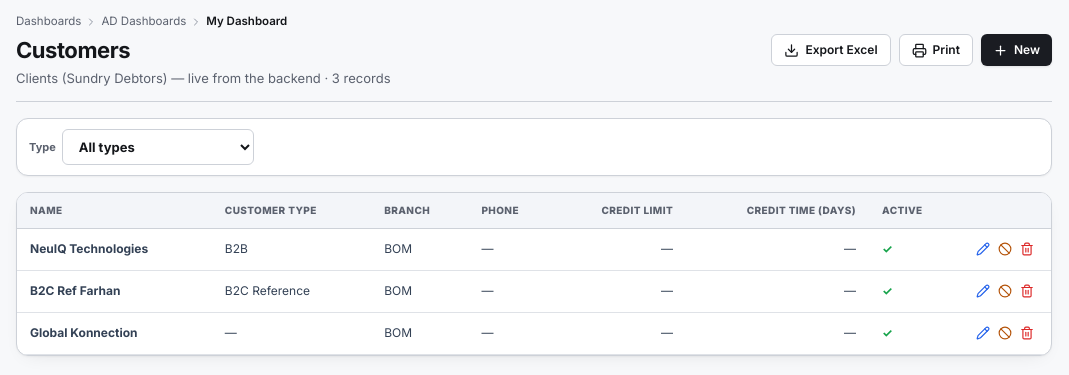
Customers master — Client Type filter › Unclassified isolates the historic rows carrying no type — they are not silently swallowed
Step 1. Select "Unclassified" in the dropdown → (158, 147), box [62,129,254,165]
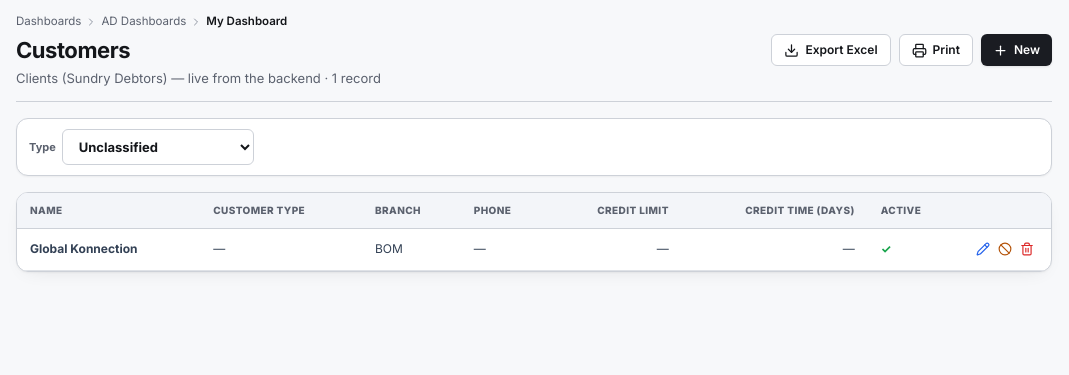
Expected: the text "Global Konnection" is shown, [17,228,200,270]
Expected: the text "NeuIQ Technologies" is gone
Expected: the text "B2C Ref Farhan" is gone
